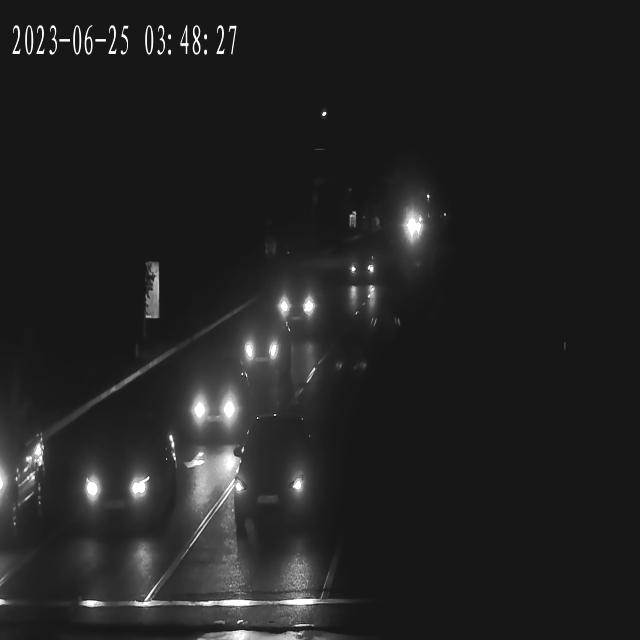Car: (38, 418, 181, 540), (231, 426, 319, 526), (0, 402, 47, 522), (182, 359, 249, 435), (267, 274, 323, 330), (236, 316, 292, 367), (344, 251, 378, 286), (404, 212, 425, 242)
